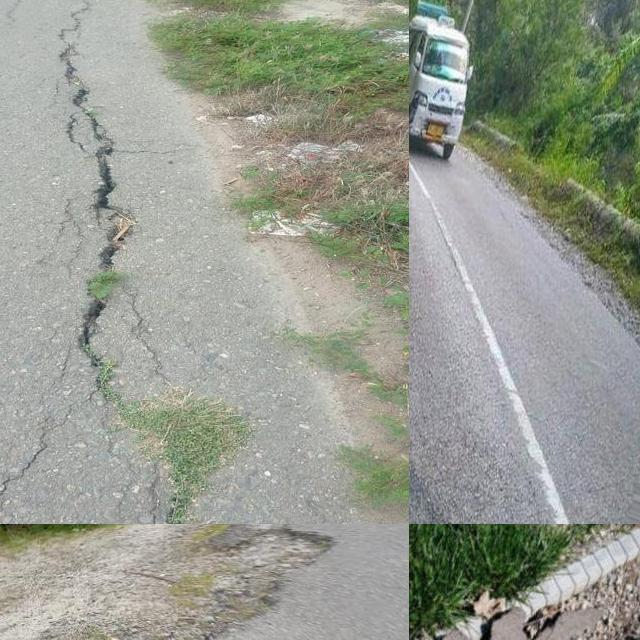Memanjang: (43, 0, 167, 446)
Pinggir: (409, 524, 640, 640), (173, 524, 356, 640)
